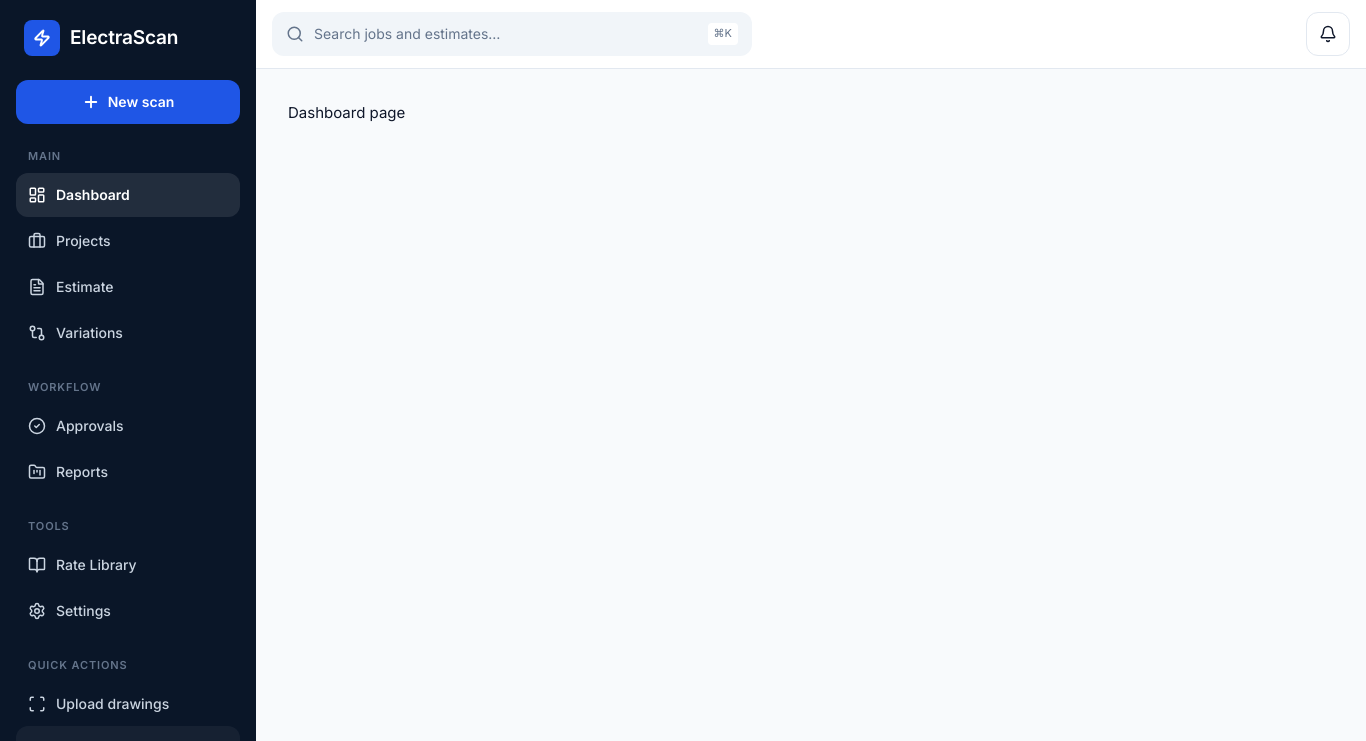
Test: DesktopShell V1 navy chrome › navigates from the palette to New scan
This screenshot has width=1366, height=741.
Click the button with aria-label "search jobs, estimates, and plans" at [407, 34], box [272,12,752,56]
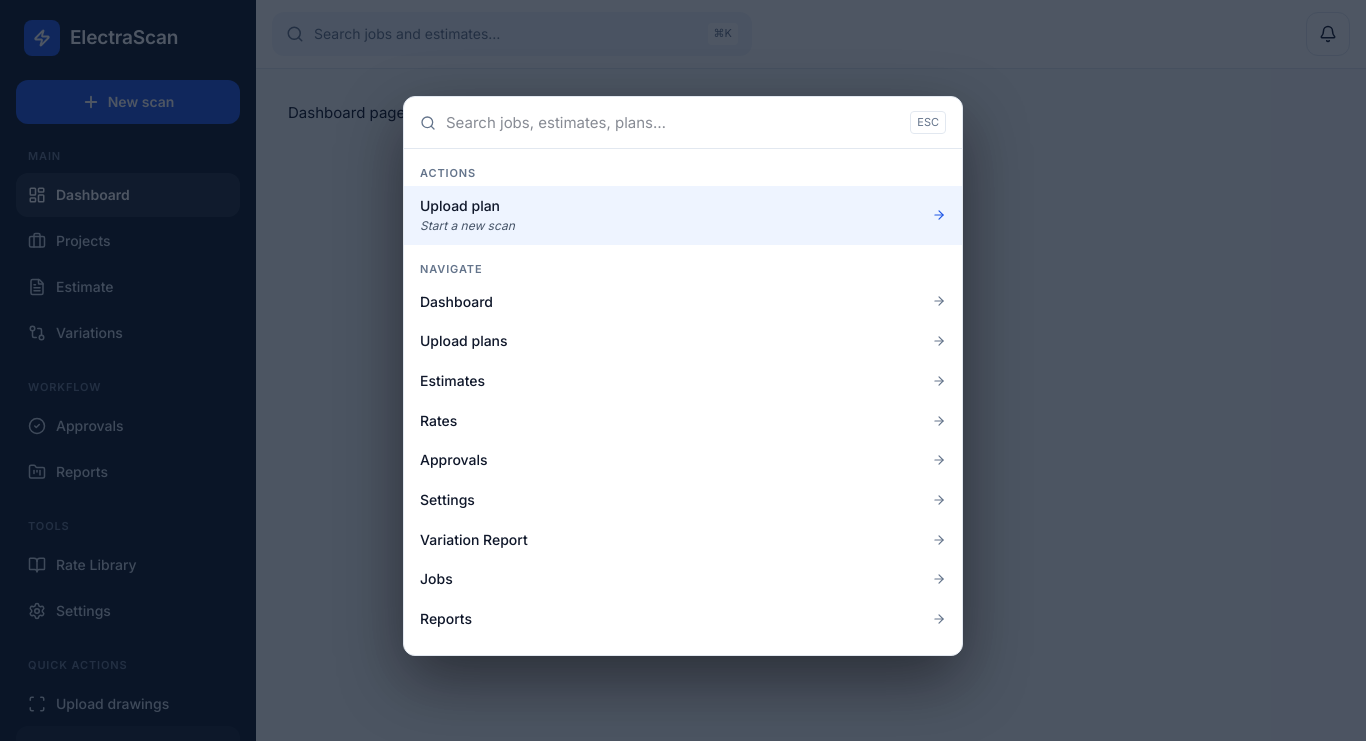
Click the button "Upload plan Start a new scan" at [460, 206], box [404,186,962,245]
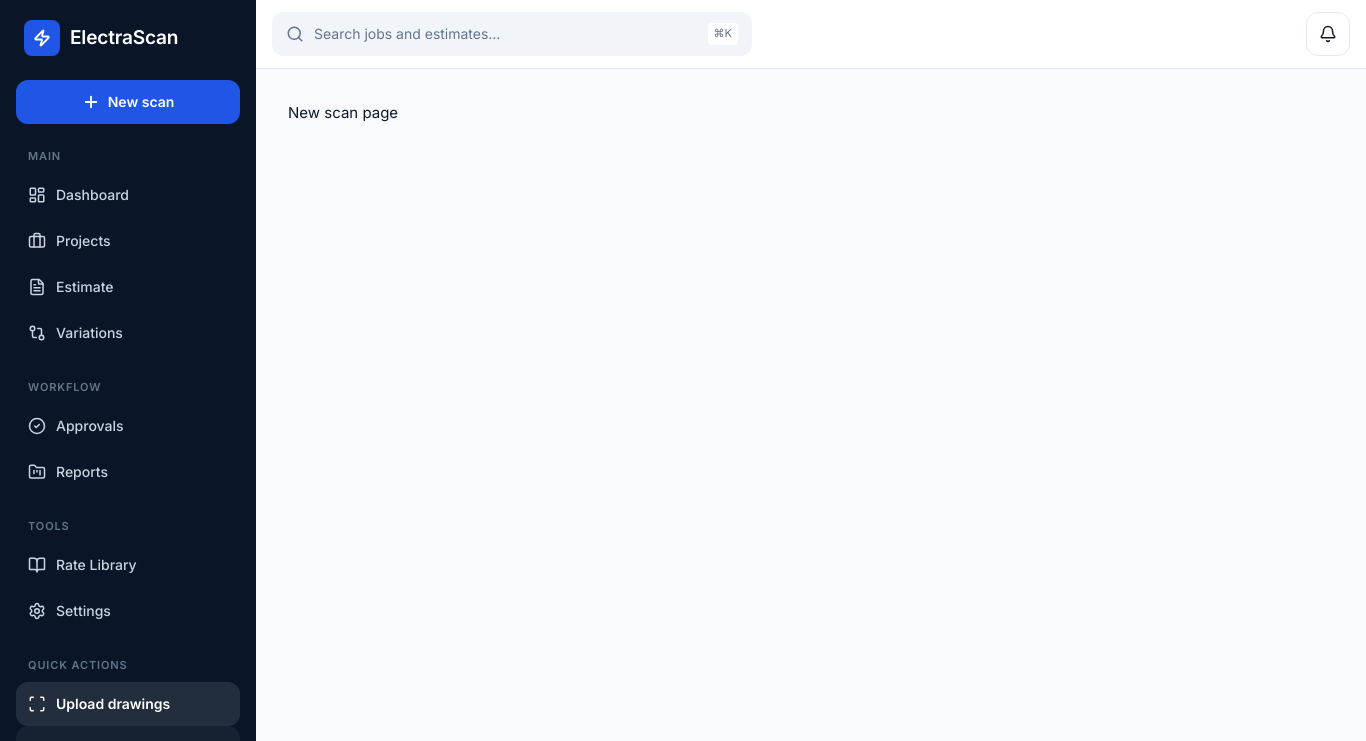
Now the text "New scan page" is shown, box [288,103,398,122]
